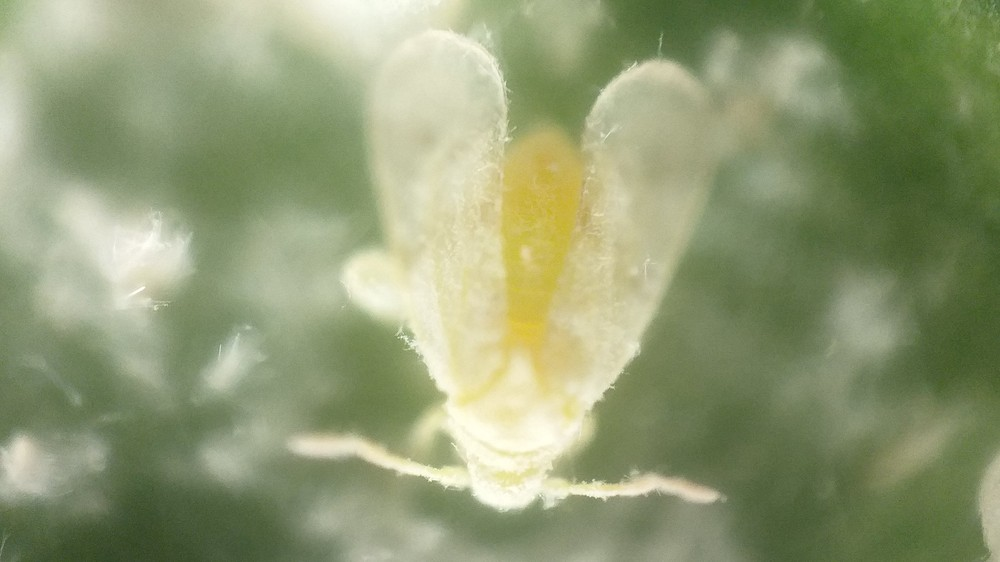Mosca Blanca: (283, 30, 770, 527)
